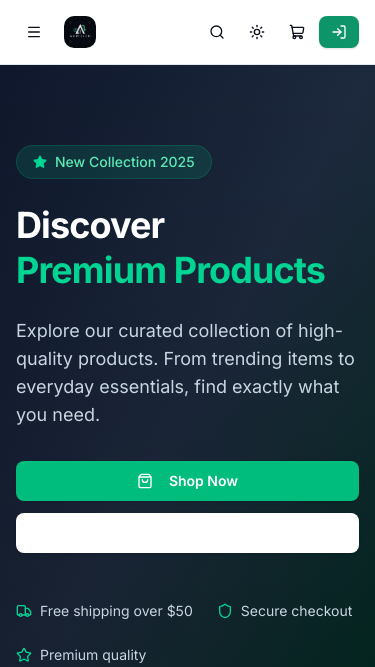
Mobile Drawer – Opens and Navigates › clicking hamburger opens the drawer
Click the button with test id "mobile-menu".
click(34, 32)  # box [16,14,52,50]
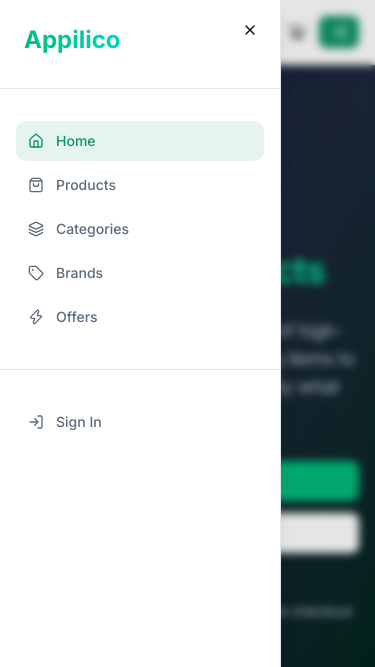
Expected: the dialog is shown
